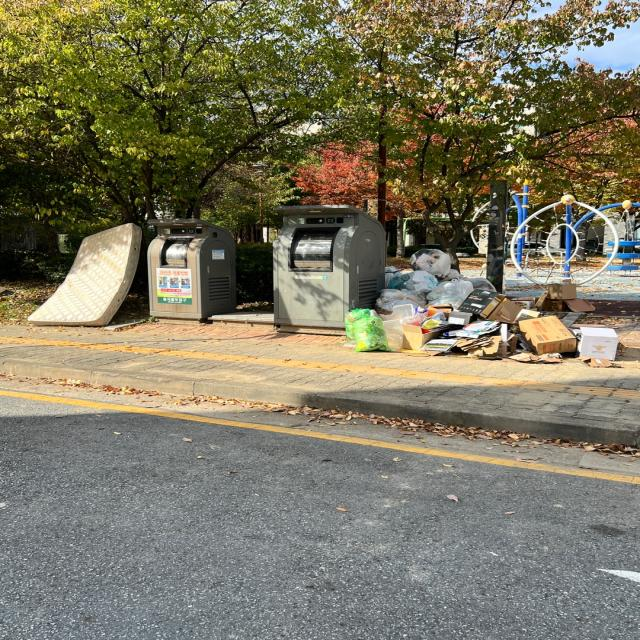CleanNet: (261, 200, 386, 328), (142, 216, 236, 321)
General Waste: (344, 248, 625, 366), (346, 299, 387, 352)
Large Waste Items: (34, 224, 143, 331)
